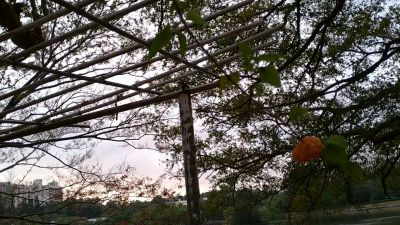eggs: (292, 135, 325, 163)
